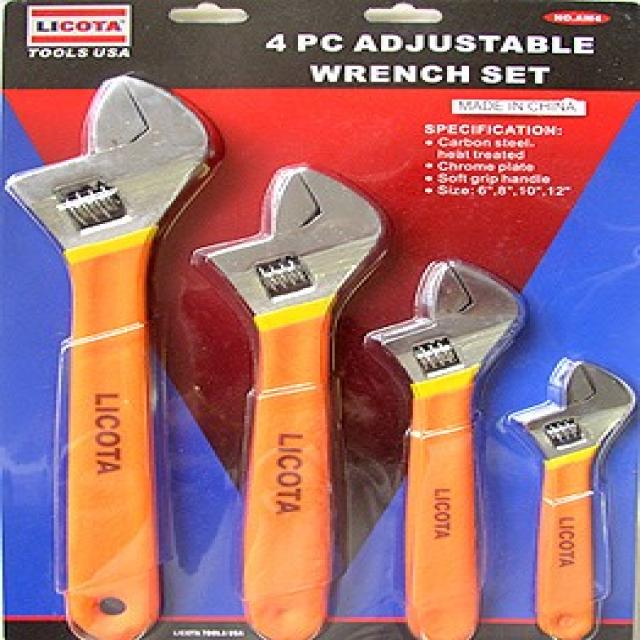wrench: (0, 57, 193, 620), (187, 162, 382, 602), (359, 259, 520, 640), (500, 357, 640, 640)
